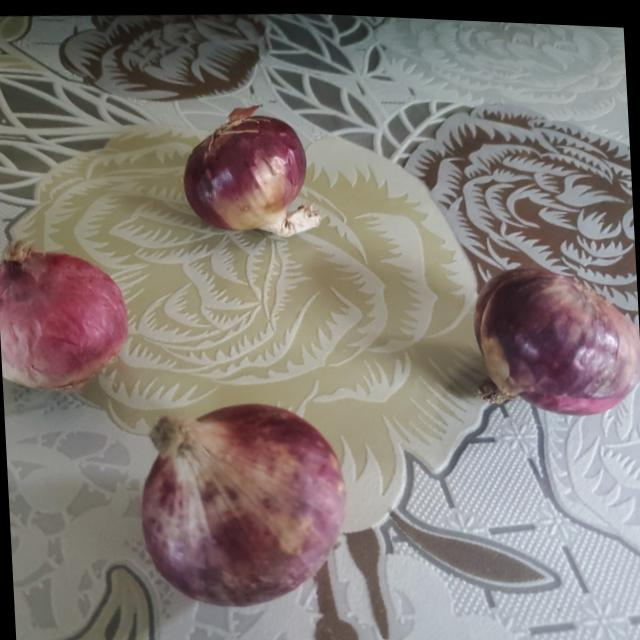onion: (138, 394, 352, 609), (477, 257, 640, 424), (0, 245, 126, 391), (178, 106, 308, 237)
